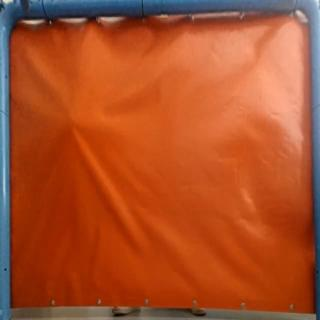Hit-hRxx: (62, 111, 81, 128)
